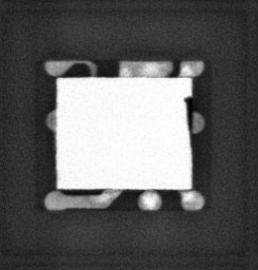DIE_BROKEN: (182, 93, 193, 146)
